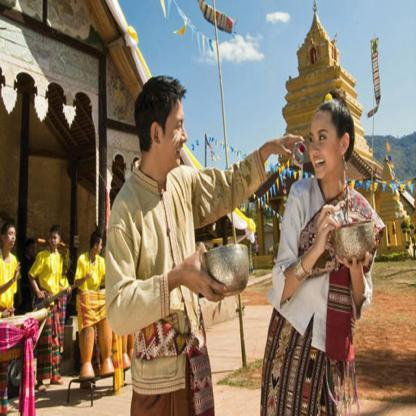face: (310, 113, 342, 181), (161, 102, 189, 168), (7, 227, 17, 250), (50, 231, 60, 247), (96, 238, 103, 255)
